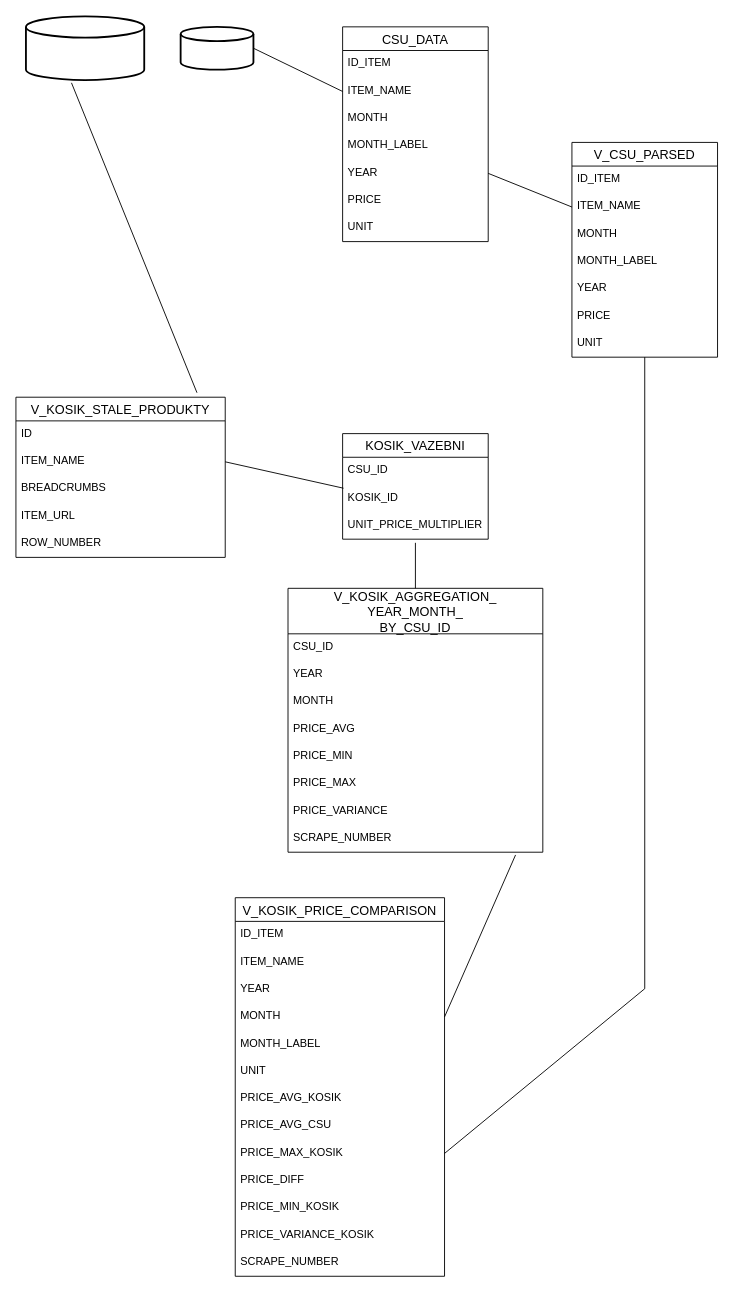
Some shapes in this 733 by 1295 pixel diagram are drawn without their labels. The centre of each missing label's shape, as x and y in pixels:
"CSU" belongs at [216,47].
"KOSIK_RAW" belongs at [85,48].
